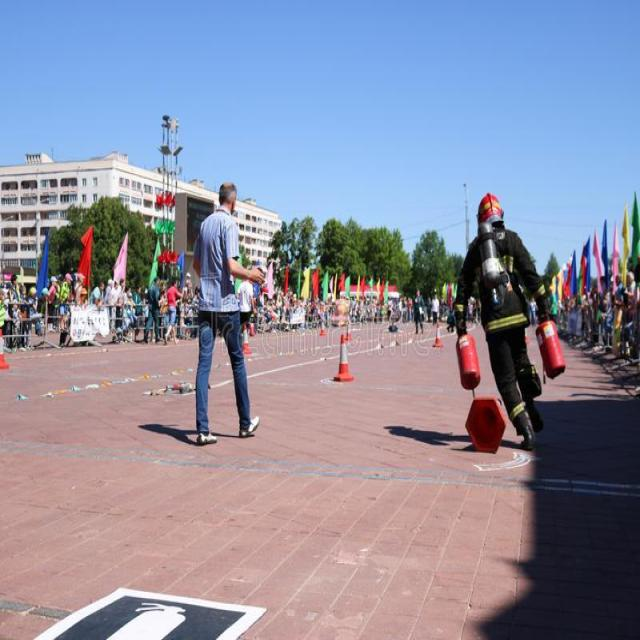fire_extinguisher: (446, 304, 484, 396), (532, 307, 568, 386)
